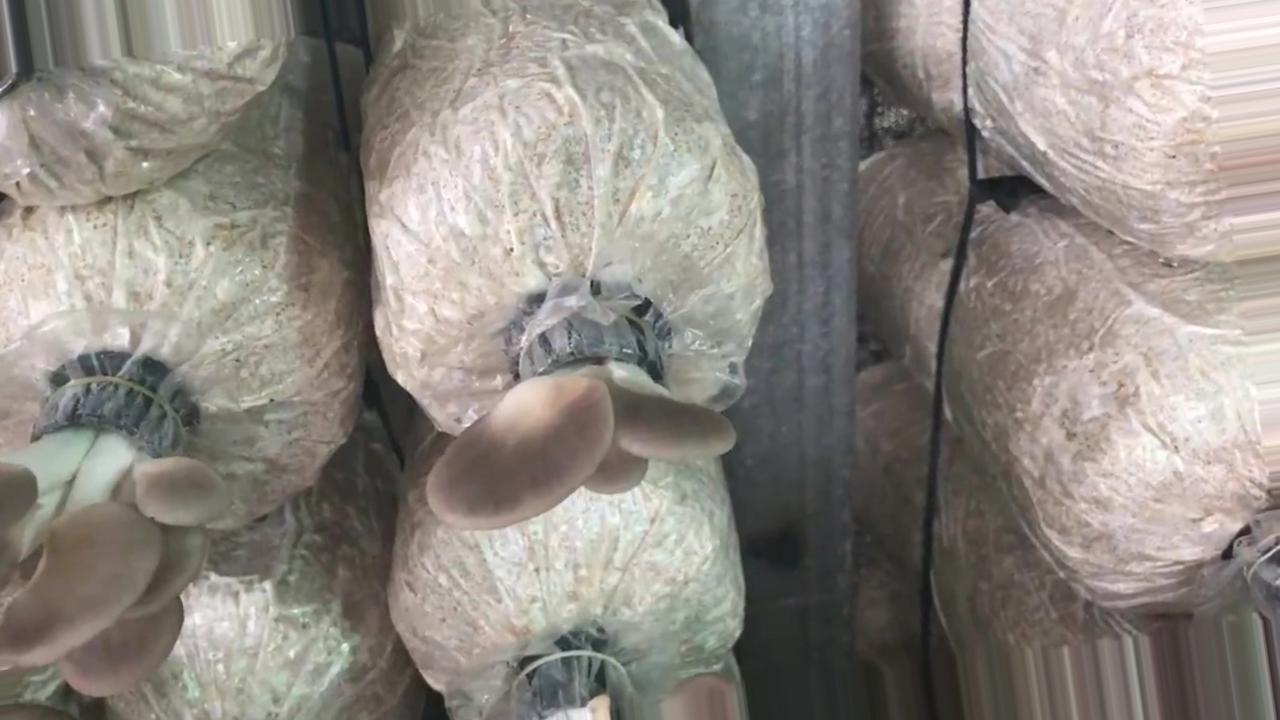nam: (1, 359, 235, 700), (424, 291, 743, 534)
